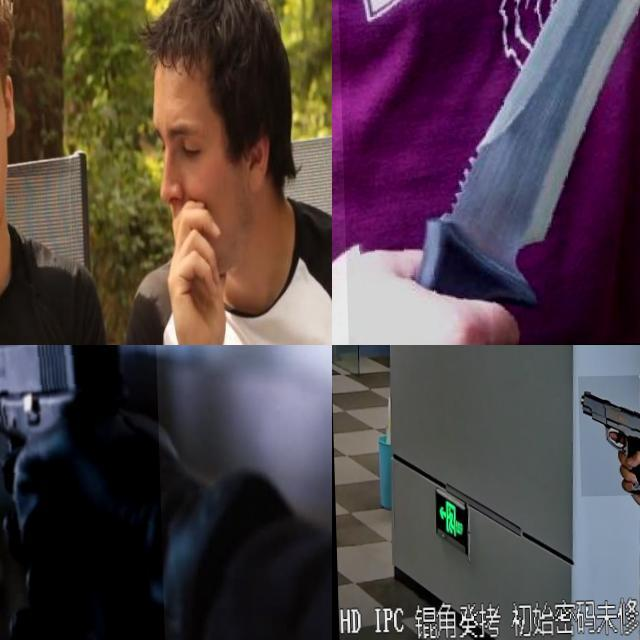-: (332, 0, 640, 345)
gun-knife-thesis - v11 Yolov5 augmented: (0, 345, 164, 640), (575, 376, 640, 497)
